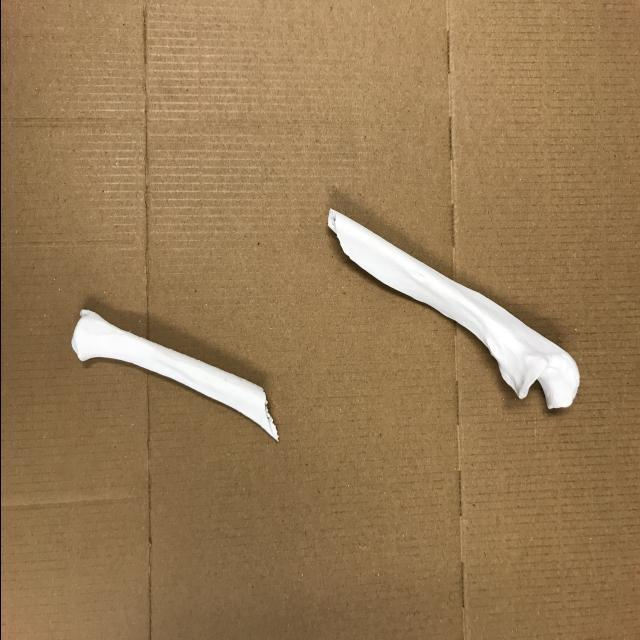bone: (322, 200, 582, 416), (68, 300, 280, 450)
